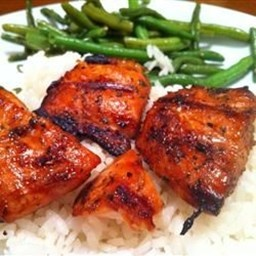background: (0, 0, 102, 102)
